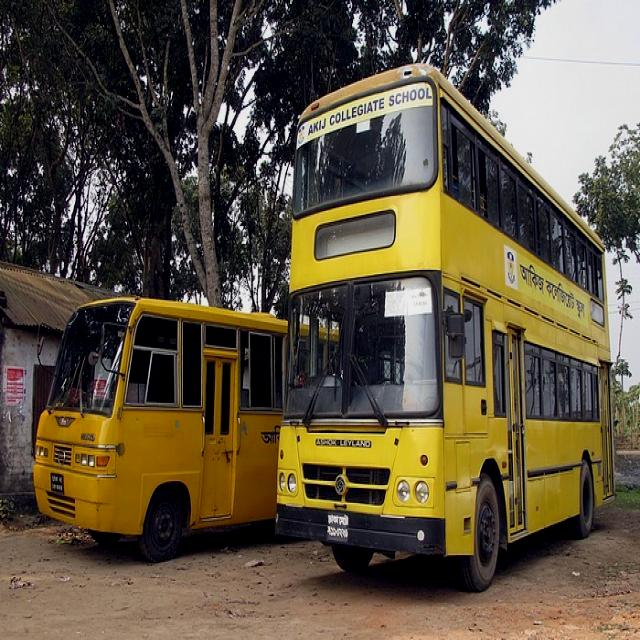bus: (276, 61, 617, 594), (34, 297, 285, 565)
